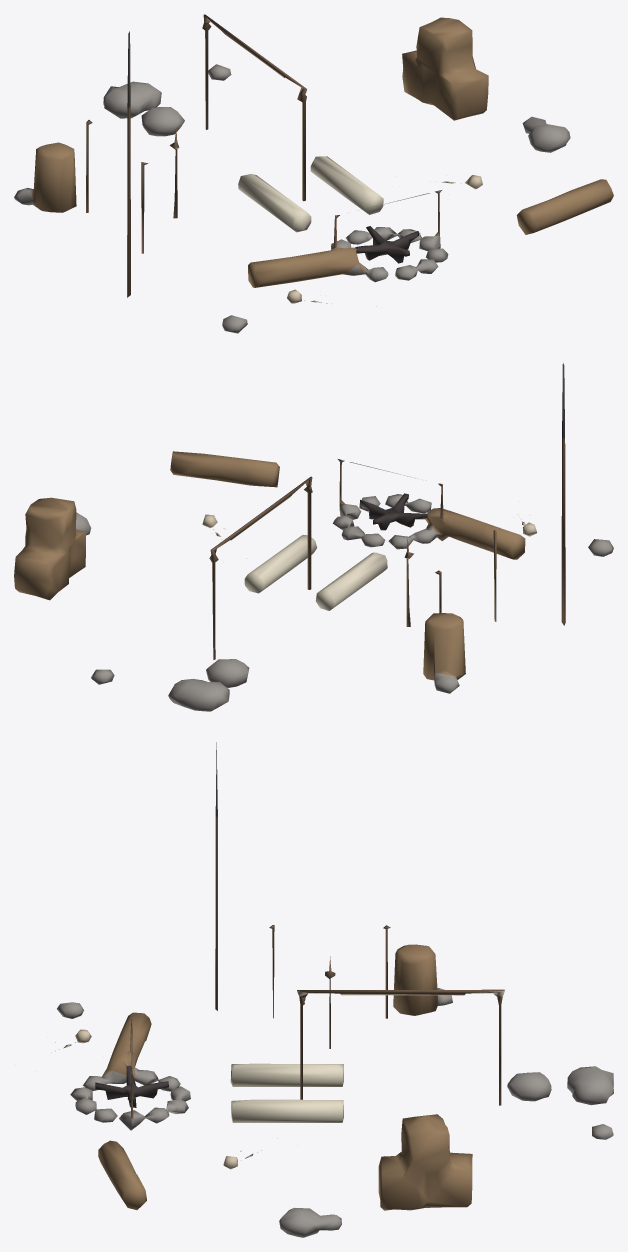
File: poi_skeleton_camp_LOD2.glb
3 renders of one model, top to bottom at view 1: azimuth 30°, elevation 25°; view 2: azimuth 150°, elevation 25°; view 3: azimuth 270°, elevation 25°, orthographic. The views are drawn at different scales.
Visible parts, largest first — view 1: poi_skeleton_camp_LOD2; view 2: poi_skeleton_camp_LOD2; view 3: poi_skeleton_camp_LOD2.
Boxes of the visible parts, x1,y1,x2,y2 form: poi_skeleton_camp_LOD2: (14,14,613,333); poi_skeleton_camp_LOD2: (14,363,613,711); poi_skeleton_camp_LOD2: (14,742,613,1237).
Size of the model in its own units: 7.97 by 4.24 by 8.46.
